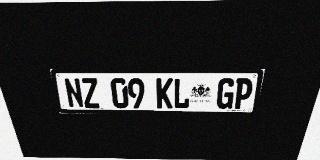0: (110, 78, 129, 108)
9: (127, 78, 145, 108)
G: (216, 78, 236, 109)
K: (156, 78, 173, 108)
L: (173, 78, 191, 109)
N: (63, 78, 84, 108)
P: (232, 78, 254, 109)
Z: (80, 78, 101, 108)
